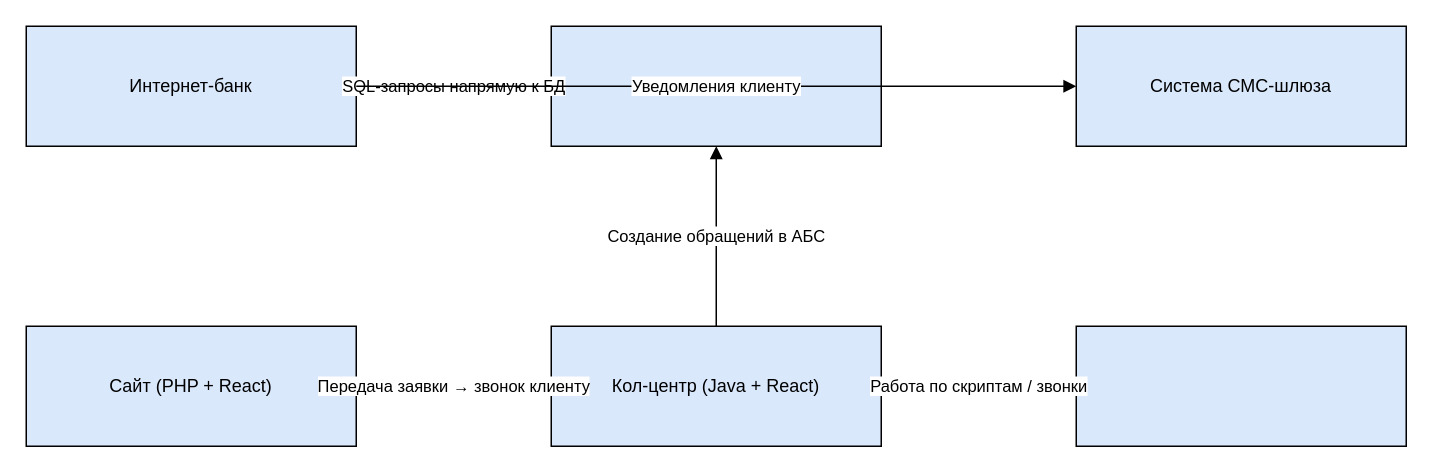
The diagram is 1433 pixels wide and 473 high, and some of its shapes have lost their labels. Each missing label, with the centre of its shape:
"АБС (Delphi + Oracle)" belongs at pixel 715 85.
"Партнёрский кол-центр" belongs at pixel 1240 385.
